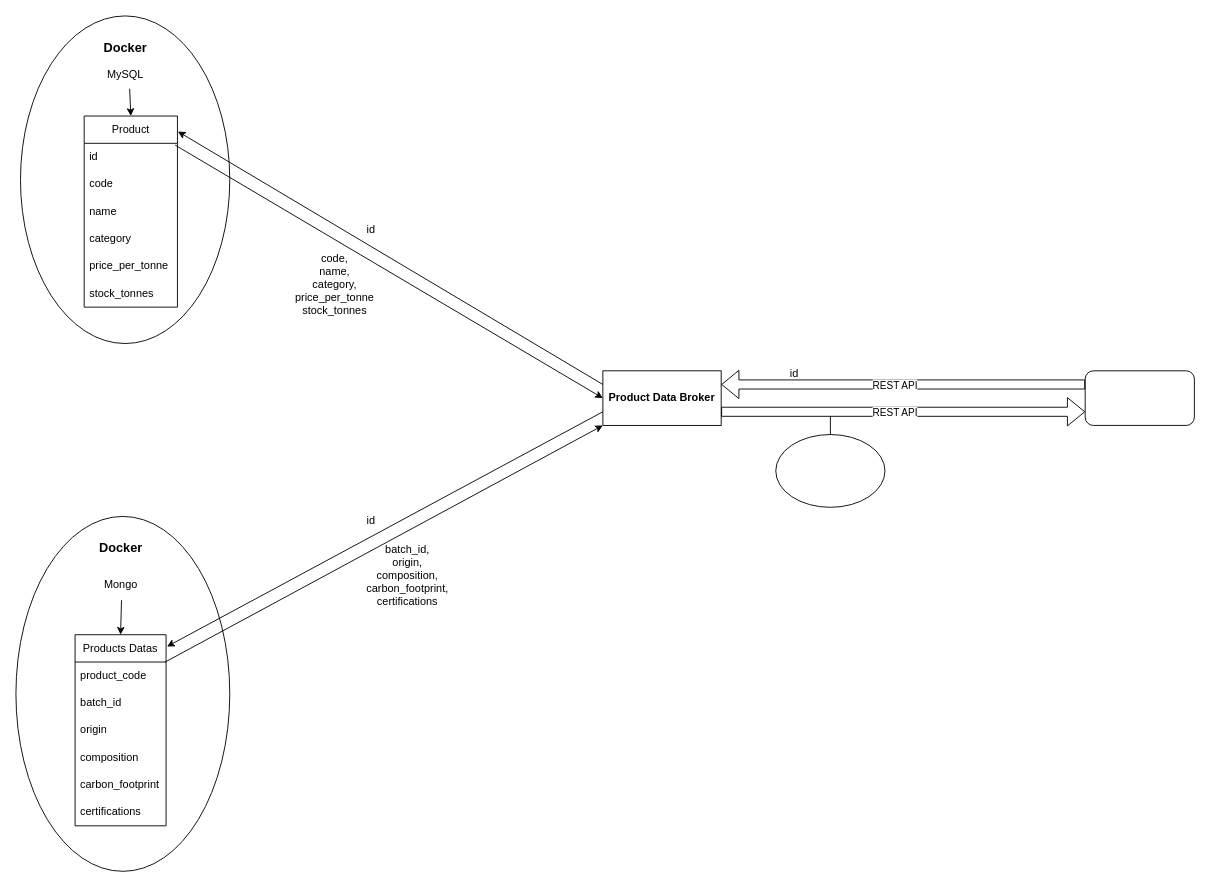
This 1210x887 diagram has some shape labels left out. Each missing label, with the centre of its shape:
"Digital Product Passport (DPP)" belongs at (x=830, y=470).
"User" belongs at (x=1139, y=397).
